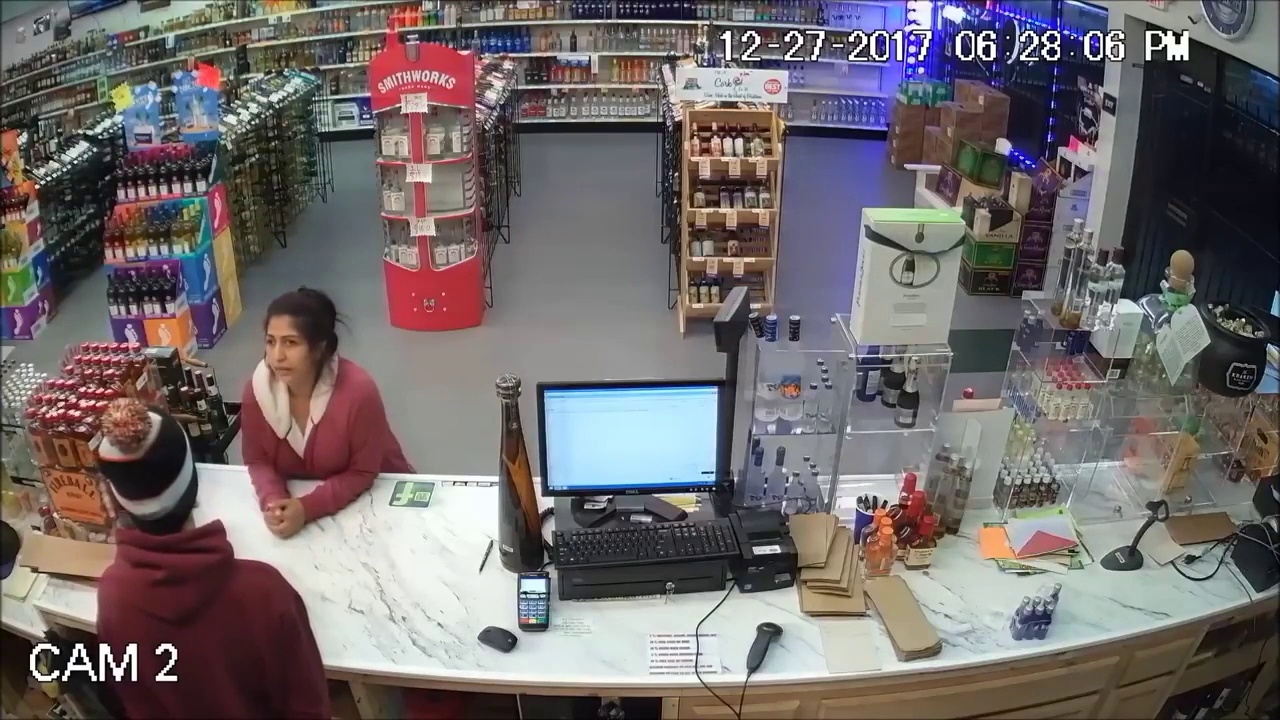face: (262, 316, 310, 387)
